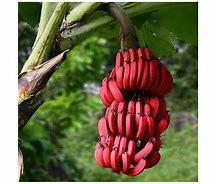banana: (86, 40, 191, 179)
